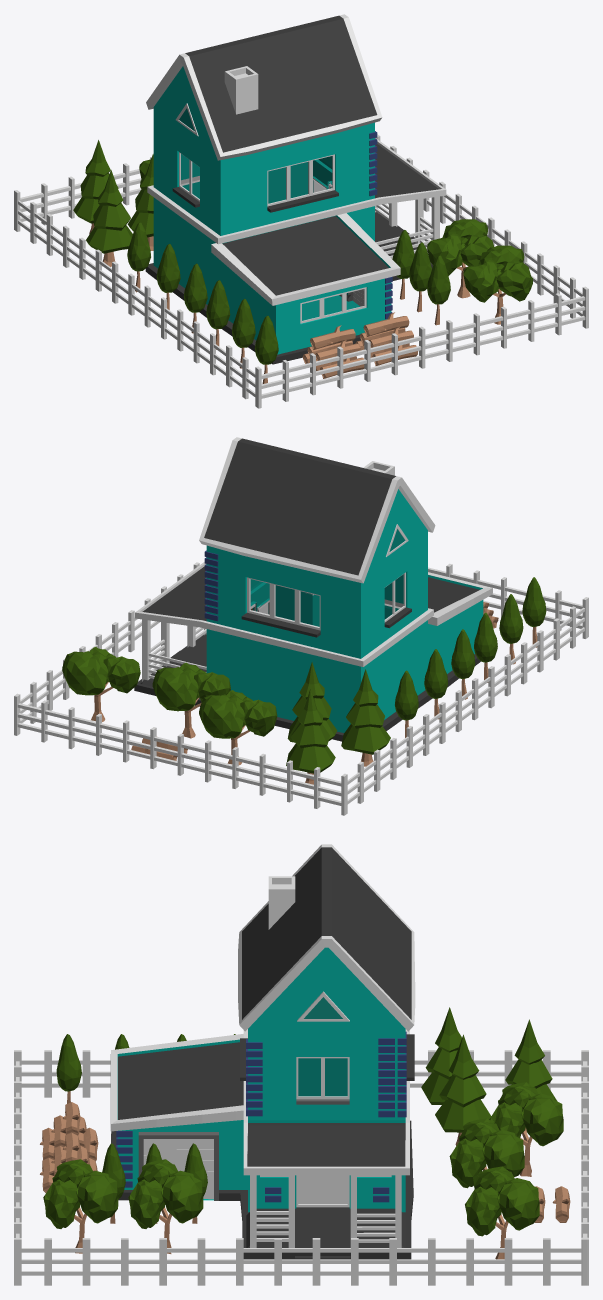
The model's file is z.001_lev3.glb.
3 views of the same model, one above another, from view 1: azimuth 30°, elevation 25°; view 2: azimuth 150°, elevation 25°; view 3: azimuth 270°, elevation 25° (orthographic). The views are drawn at different scales.
Visible parts, largest first — view 1: z.001_lev3; view 2: z.001_lev3; view 3: z.001_lev3.
Boxes of the visible parts, x1,y1,x2,y2 form: z.001_lev3: (14, 14, 588, 408); z.001_lev3: (14, 437, 588, 815); z.001_lev3: (14, 844, 588, 1285).
Bounding box in the file's own units: 8.97 × 6.26 × 11.49.
12 materials, 1 textured.
